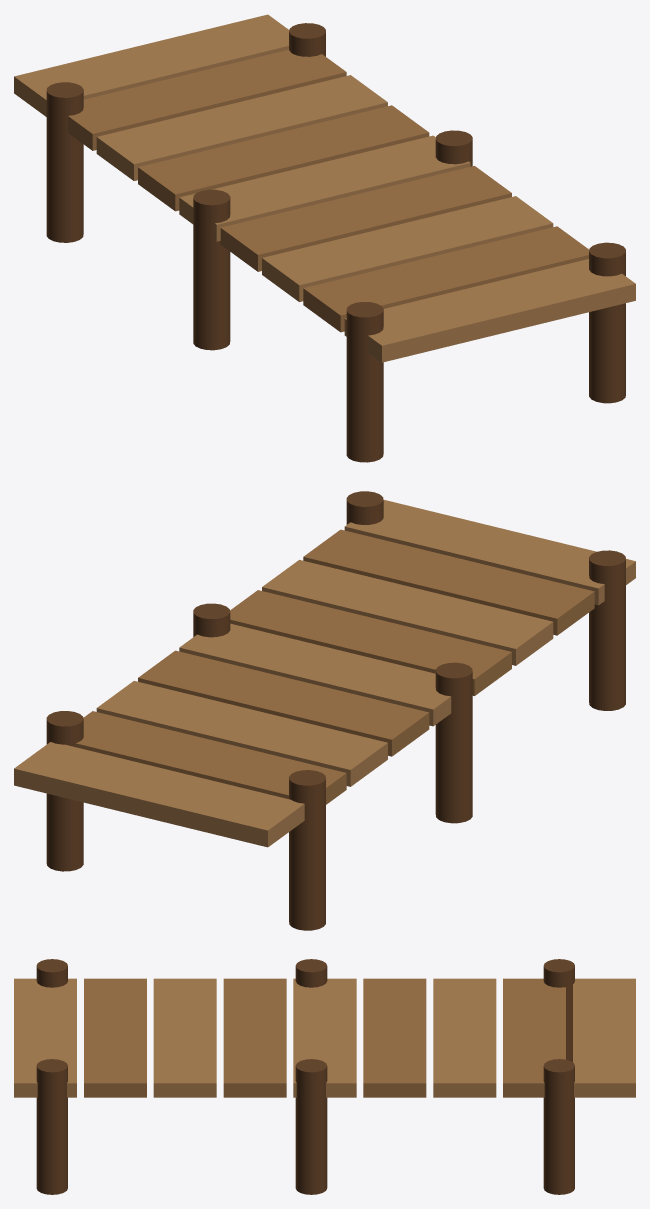
Rendered from dock.glb.
The picture shows the model from 3 angles, top to bottom: view 1: azimuth 30°, elevation 25°; view 2: azimuth 150°, elevation 25°; view 3: azimuth 270°, elevation 25°; orthographic projection. The views are drawn at different scales.
Parts seen in each view (by area): view 1: farm_dock; view 2: farm_dock; view 3: farm_dock.
Boxes of the visible parts, x1,y1,x2,y2 form: farm_dock: (14,14,635,462); farm_dock: (14,491,635,930); farm_dock: (14,959,635,1194).
Size of the model in its own units: 2.38 by 1.2 by 5.52.
